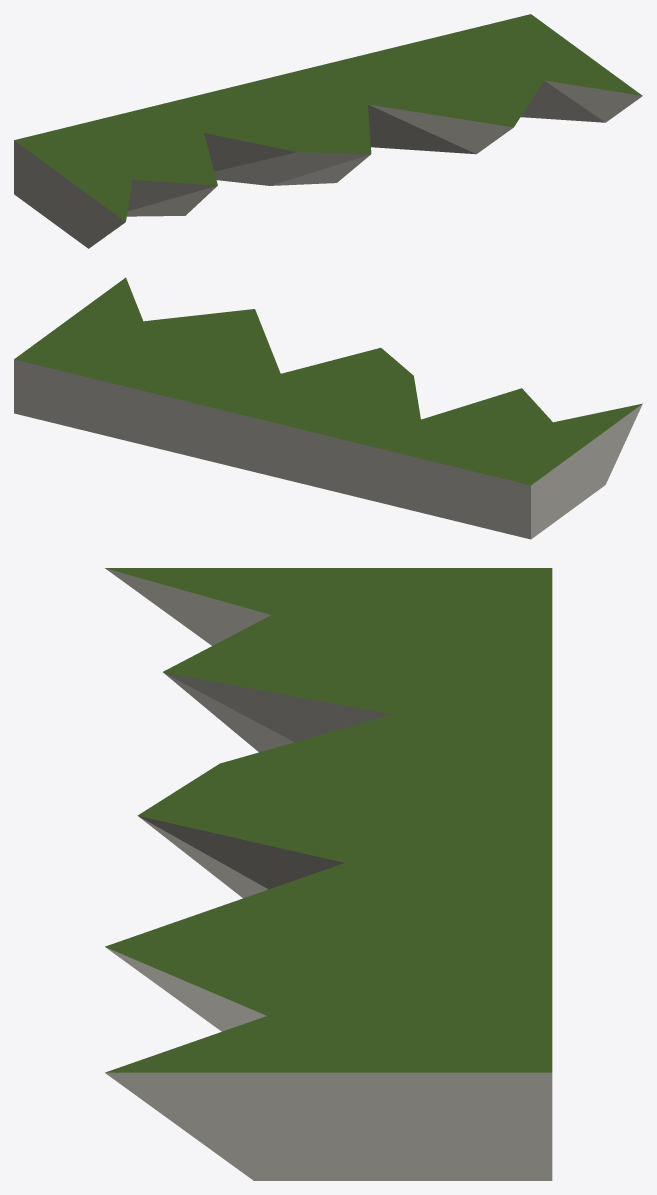
File: Terrain_Modular_Tiles_Grass_Rock_Cliff_Edge_Straight_Outer_02.fbx
The picture shows the model from 3 angles, top to bottom: view 1: azimuth 30°, elevation 25°; view 2: azimuth 150°, elevation 25°; view 3: azimuth 270°, elevation 25°; orthographic projection. The views are drawn at different scales.
Parts seen in each view (by area): view 1: Terrain_Modular_Tiles_Grass_Rock_Cliff_Edge_Straight_Outer_0; view 2: Terrain_Modular_Tiles_Grass_Rock_Cliff_Edge_Straight_Outer_0; view 3: Terrain_Modular_Tiles_Grass_Rock_Cliff_Edge_Straight_Outer_0.
Boxes of the visible parts, left/top/right/bottom form: Terrain_Modular_Tiles_Grass_Rock_Cliff_Edge_Straight_Outer_0: left=14, top=14, right=642, bottom=248; Terrain_Modular_Tiles_Grass_Rock_Cliff_Edge_Straight_Outer_0: left=14, top=277, right=642, bottom=539; Terrain_Modular_Tiles_Grass_Rock_Cliff_Edge_Straight_Outer_0: left=105, top=568, right=552, bottom=1180.
Size of the model in its own units: 3000 by 300 by 1125.
